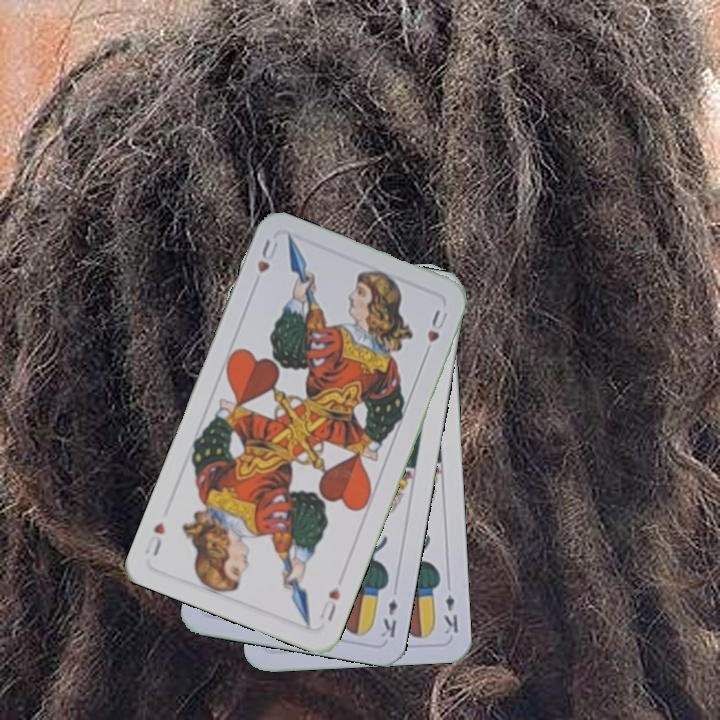EK: (377, 595, 400, 641), (440, 590, 461, 637)
HU: (314, 583, 343, 625), (252, 235, 281, 275)
